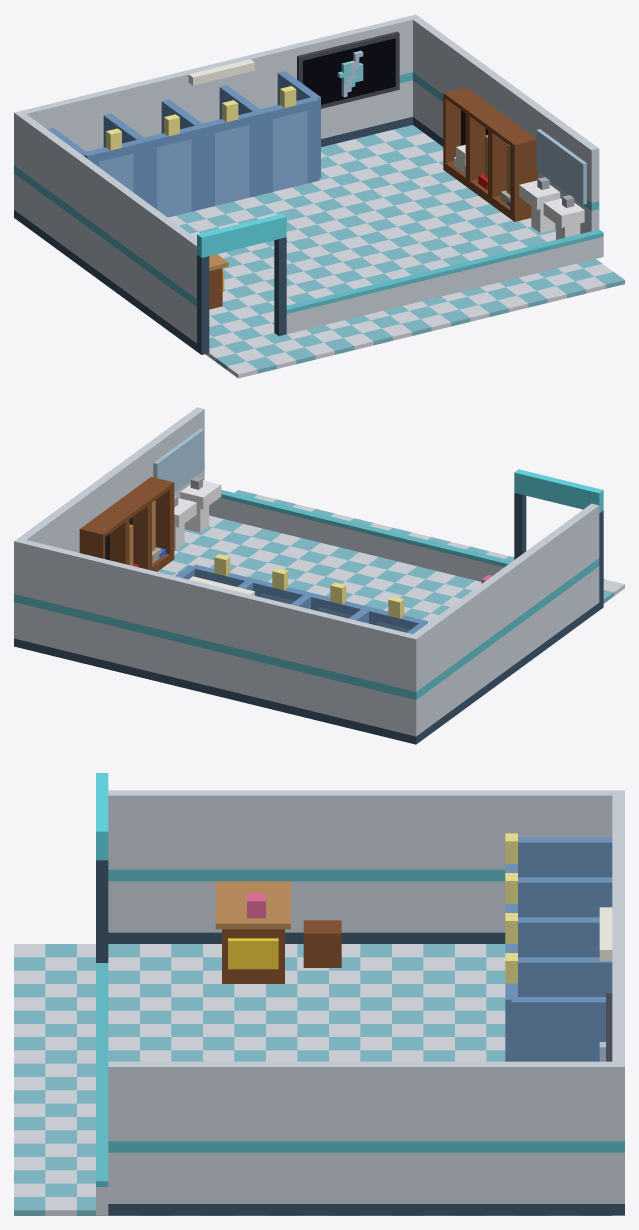
The model's file is bano_chepa.obj.
3 renders of one model, top to bottom at view 1: azimuth 30°, elevation 25°; view 2: azimuth 150°, elevation 25°; view 3: azimuth 270°, elevation 25°, orthographic. The views are drawn at different scales.
Parts seen in each view (by area): view 1: pared, piso_azulejo, piso_azulejo_celeste, cubiculos, estante, muro_frente, ventana_cielo, muro_frente_franja, pared_zocalo, puerta_3, puerta_2, entrada (+9 smaller); view 2: pared, piso_azulejo, piso_azulejo_celeste, muro_frente, estante, pared_franja, pared_zocalo, cubiculos, muro_frente_franja, letrero, espejo, lavamanos (+1 smaller); view 3: pared, piso_azulejo_celeste, piso_azulejo, cubiculos, pared_franja, pared_zocalo, mostrador_tapa, muro_frente_franja, mostrador, banco, letrero_q1, entrada (+2 smaller).
Boxes of the visible parts, x1=… form: pared: x1=14, y1=14, x2=599, y2=343; piso_azulejo: x1=168, y1=129, x2=613, y2=378; piso_azulejo_celeste: x1=176, y1=125, x2=624, y2=373; cubiculos: x1=47, y1=71, x2=320, y2=211; estante: x1=443, y1=87, x2=537, y2=221; muro_frente: x1=286, y1=237, x2=603, y2=333; ventana_cielo: x1=303, y1=38, x2=395, y2=104; muro_frente_franja: x1=286, y1=229, x2=603, y2=313; pared_zocalo: x1=14, y1=117, x2=555, y2=351; puerta_3: x1=273, y1=110, x2=307, y2=191; puerta_2: x1=215, y1=125, x2=249, y2=205; entrada: x1=197, y1=237, x2=286, y2=354; pared: x1=14, y1=407, x2=599, y2=736; piso_azulejo: x1=161, y1=494, x2=624, y2=622; piso_azulejo_celeste: x1=157, y1=490, x2=613, y2=619; muro_frente: x1=209, y1=498, x2=503, y2=581; estante: x1=79, y1=476, x2=174, y2=571; pared_franja: x1=14, y1=462, x2=599, y2=699; pared_zocalo: x1=14, y1=603, x2=599, y2=744; cubiculos: x1=175, y1=564, x2=427, y2=634; muro_frente_franja: x1=220, y1=490, x2=512, y2=567; letrero: x1=514, y1=469, x2=603, y2=512; espejo: x1=153, y1=428, x2=204, y2=491; lavamanos: x1=174, y1=480, x2=221, y2=550; pared: x1=108, y1=790, x2=624, y2=1203; piso_azulejo_celeste: x1=14, y1=944, x2=611, y2=1215; piso_azulejo: x1=14, y1=944, x2=580, y2=1215; cubiculos: x1=505, y1=837, x2=612, y2=1061; pared_franja: x1=108, y1=869, x2=624, y2=1152; pared_zocalo: x1=108, y1=932, x2=624, y2=1215; mostrador_tapa: x1=215, y1=881, x2=290, y2=929; muro_frente_franja: x1=96, y1=963, x2=108, y2=1186; mostrador: x1=222, y1=929, x2=284, y2=983; banco: x1=303, y1=920, x2=341, y2=967; letrero_q1: x1=228, y1=938, x2=278, y2=969; entrada: x1=96, y1=860, x2=108, y2=962.
Bounding box in the file's own units: 10.4 × 3 × 9.7.
